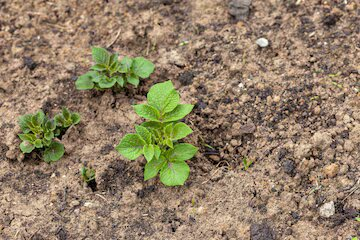potato_plant: (117, 79, 192, 188), (74, 45, 154, 90), (17, 107, 82, 160)
